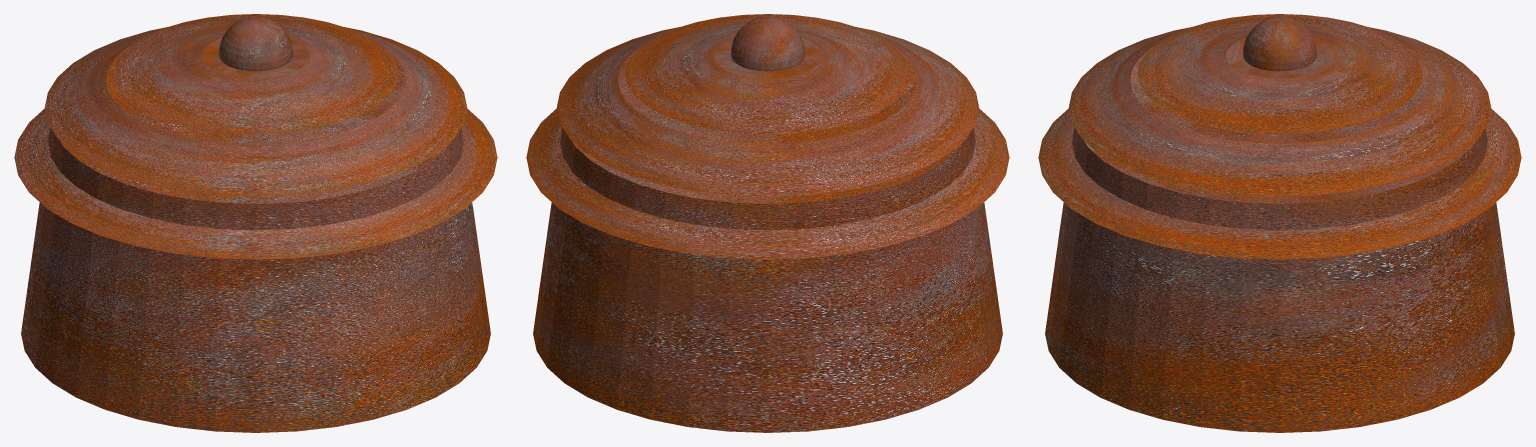
The model's file is tower-2.glb.
3 views of the same model, side by side, from view 1: azimuth 30°, elevation 25°; view 2: azimuth 150°, elevation 25°; view 3: azimuth 270°, elevation 25° (orthographic).
Bounding box in the file's own units: 24.53 × 17.57 × 24.53.
Materials: 2 (2 with a texture image).
